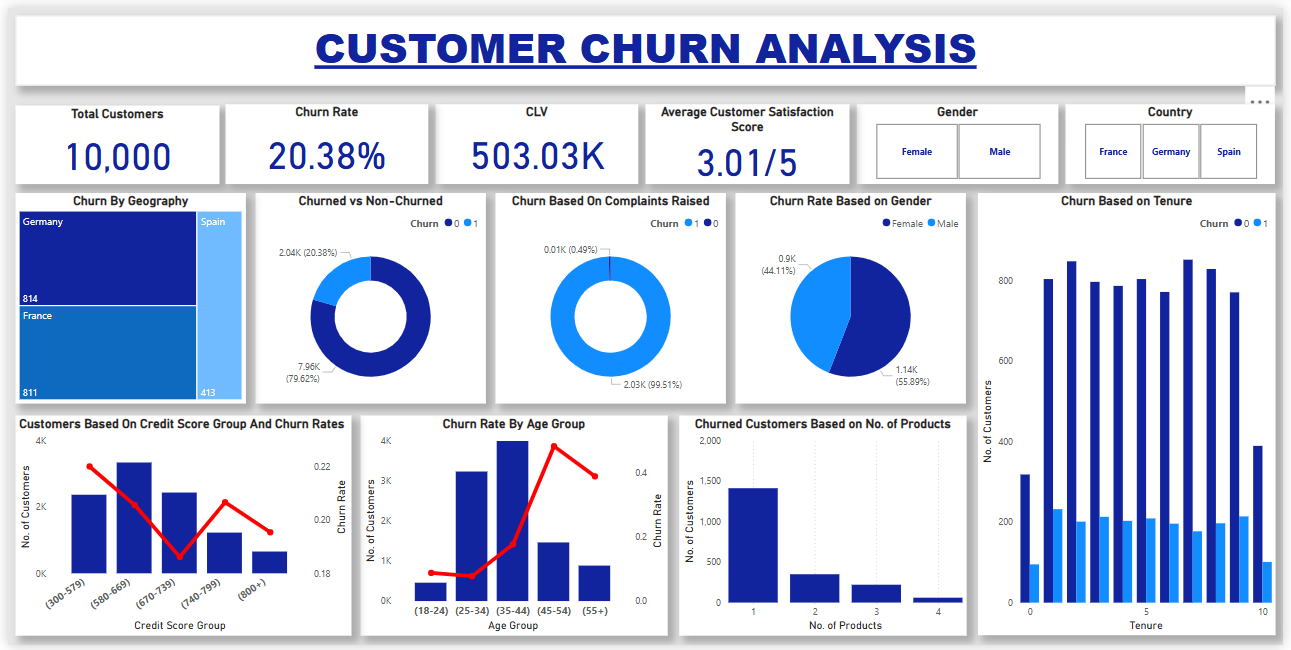

The dashboard page shown, as its layout file describes it:
{"tool":"powerbi","page":{"name":"Final Dashboard","canvas":[1700,850],"ordinal":0},"visuals":[{"type":"textbox","box":[10,10,1680,103.3],"z":0},{"type":"slicer","title":"Gender","fields":{"Values":["Customer-Churn-Records.Gender"]},"box":[1131.7,128.2,268.7,106.6],"z":2000},{"type":"slicer","title":"Country","fields":{"Values":["Customer-Churn-Records.Geography"]},"box":[1410,128.2,279.5,106.6],"z":3000},{"type":"card","title":"CLV","fields":{"Values":["Customer-Churn-Records.CLV"]},"box":[570.5,128.2,270.3,106.6],"z":5000},{"type":"card","title":"Total Customers","fields":{"Values":["CountNonNull(Customer-Churn-Records.CustomerId)"]},"box":[9.3,129.7,271.8,105],"z":6000},{"type":"card","title":"Churn Rate","fields":{"Values":["Customer-Churn-Records.Churn Rate"]},"box":[290.6,128.2,270.3,106.6],"z":7000},{"type":"card","title":"Average Customer Satisfaction Score","fields":{"Values":["Customer-Churn-Records.AvgSatisfaction"]},"box":[850.3,128.2,271.8,106.6],"z":8000},{"type":"donutChart","title":"Churned vs Non-Churned","fields":{"Category":["Customer-Churn-Records.Exited"],"Y":["CountNonNull(Customer-Churn-Records.CustomerId)"]},"box":[329.5,247.1,307.3,281.1],"z":9000},{"type":"treemap","title":"Churn By Geography","fields":{"Group":["Customer-Churn-Records.Geography"],"Values":["Sum(Customer-Churn-Records.Exited)"]},"box":[9.3,247.1,307.3,281.1],"z":10000},{"type":"donutChart","title":"Churn Based On Complaints Raised","fields":{"Category":["Customer-Churn-Records.Exited"],"Y":["CountNonNull(Customer-Churn-Records.CustomerId)"]},"box":[649.7,247.1,307.3,281.1],"z":11000},{"type":"lineStackedColumnComboChart","title":"Churn Rate By Age Group","fields":{"Category":["Customer-Churn-Records.Age Group"],"Y":["CountNonNull(Customer-Churn-Records.CustomerId)"],"Y2":["Customer-Churn-Records.Churn Rate"]},"box":[469.5,543.6,409.2,293.4],"z":12000},{"type":"lineStackedColumnComboChart","title":"Customers Based On Credit Score Group And Churn Rates","fields":{"Category":["Customer-Churn-Records.Credit Score Group"],"Y":["CountNonNull(Customer-Churn-Records.CustomerId)"],"Y2":["Customer-Churn-Records.Churn Rate"]},"box":[9.3,543.6,447.9,293.4],"z":13000},{"type":"clusteredColumnChart","title":"Churned Customers Based on No. of Products","fields":{"Category":["Customer-Churn-Records.NumOfProducts"],"Y":["CountNonNull(Customer-Churn-Records.CustomerId)"]},"box":[894.2,543.6,383,293.4],"z":14000},{"type":"pieChart","title":"Churn Rate Based on Gender","fields":{"Category":["Customer-Churn-Records.Gender"],"Y":["CountNonNull(Customer-Churn-Records.CustomerId)"]},"box":[969.8,247.1,307.3,281.1],"z":15000},{"type":"clusteredColumnChart","title":"Churn Based on Tenure","fields":{"Y":["CountNonNull(Customer-Churn-Records.CustomerId)"],"Category":["Customer-Churn-Records.Tenure"],"Series":["Customer-Churn-Records.Exited"]},"box":[1292.6,247.1,396.9,589.9],"z":16000}]}

Visuals, with their boxes in screenshot pixels (x1, y1, x2, y2), scaled from the page's 1700x850 canvas onto the 1291x650 screenshot:
textbox: detection(8, 8, 1283, 87)
"Gender" slicer: detection(859, 98, 1063, 180)
"Country" slicer: detection(1071, 98, 1283, 180)
"CLV" card: detection(433, 98, 639, 180)
"Total Customers" card: detection(7, 99, 213, 179)
"Churn Rate" card: detection(221, 98, 426, 180)
"Average Customer Satisfaction Score" card: detection(646, 98, 852, 180)
"Churned vs Non-Churned" donutChart: detection(250, 189, 484, 404)
"Churn By Geography" treemap: detection(7, 189, 240, 404)
"Churn Based On Complaints Raised" donutChart: detection(493, 189, 727, 404)
"Churn Rate By Age Group" lineStackedColumnComboChart: detection(357, 416, 667, 640)
"Customers Based On Credit Score Group And Churn Rates" lineStackedColumnComboChart: detection(7, 416, 347, 640)
"Churned Customers Based on No. of Products" clusteredColumnChart: detection(679, 416, 970, 640)
"Churn Rate Based on Gender" pieChart: detection(736, 189, 970, 404)
"Churn Based on Tenure" clusteredColumnChart: detection(982, 189, 1283, 640)
